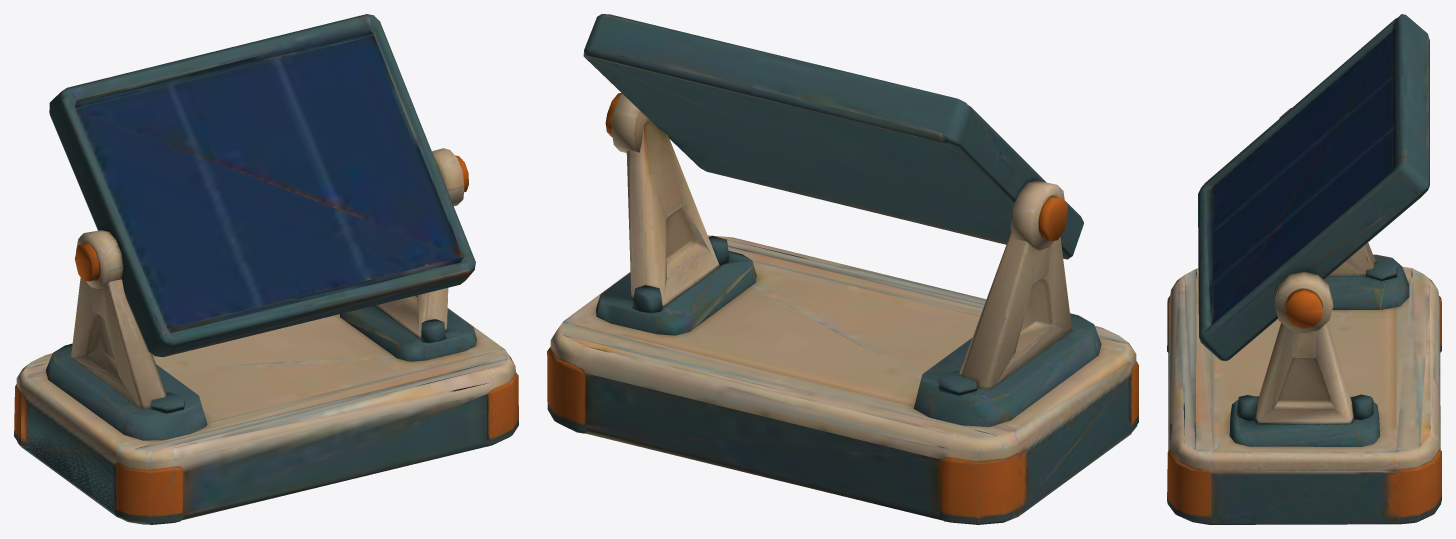
The model's file is solar_array-lod0.2c68177e36df.glb.
3 renders of one model, left to right at view 1: azimuth 30°, elevation 25°; view 2: azimuth 150°, elevation 25°; view 3: azimuth 270°, elevation 25°, orthographic. The views are drawn at different scales.
Parts seen in each view (by area): view 1: geometry_0; view 2: geometry_0; view 3: geometry_0.
Part boxes in pixels (<box>): geometry_0: <box>14,14,518,524</box>; geometry_0: <box>547,14,1138,524</box>; geometry_0: <box>1167,14,1441,524</box>.
Bounding box in the file's own units: 1 × 0.833 × 0.6058.
Materials: 1 (1 with a texture image).
